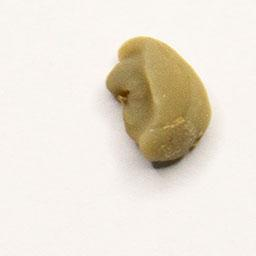defect: (101, 33, 215, 169)
